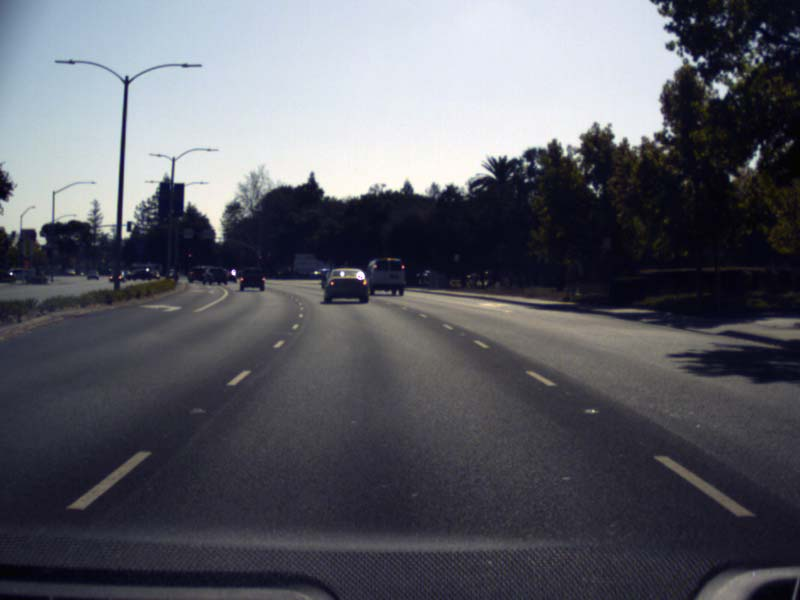Red: (188, 252, 192, 260)
